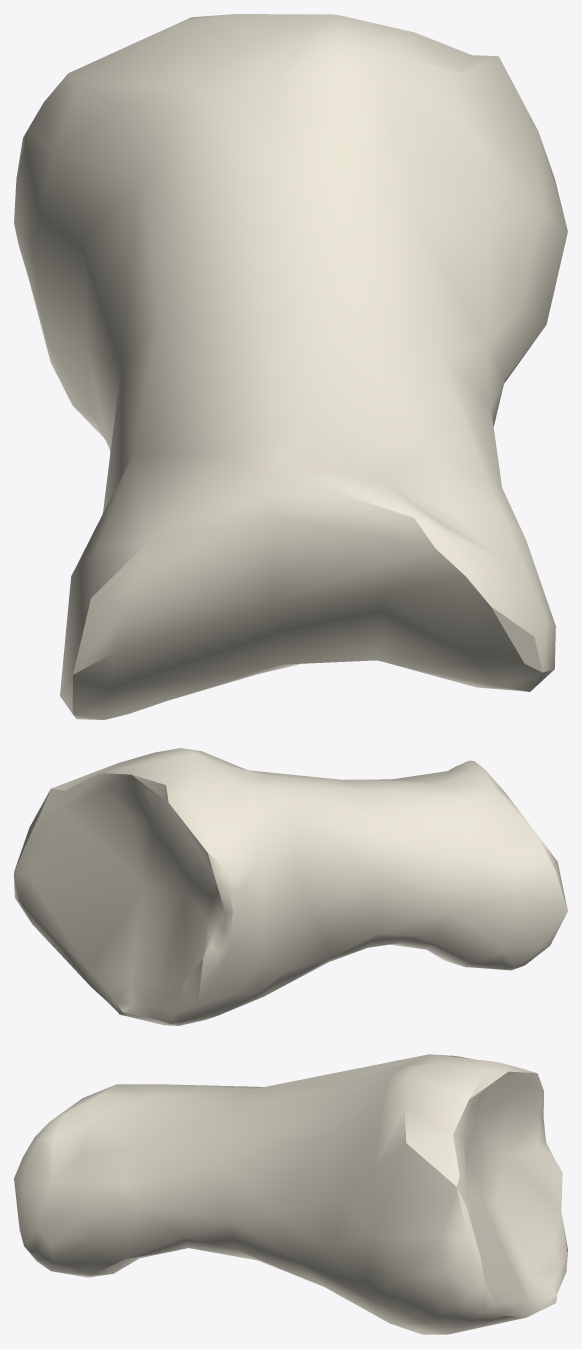
The model's file is fma43253_fj6413m.glb.
3 renders of one model, top to bottom at view 1: azimuth 30°, elevation 25°; view 2: azimuth 150°, elevation 25°; view 3: azimuth 270°, elevation 25°, orthographic. The views are drawn at different scales.
Parts seen in each view (by area): view 1: FMA43253_FJ6413M; view 2: FMA43253_FJ6413M; view 3: FMA43253_FJ6413M.
Boxes of the visible parts, bbox=[...] form: FMA43253_FJ6413M: bbox=[14, 14, 567, 719]; FMA43253_FJ6413M: bbox=[14, 748, 567, 1025]; FMA43253_FJ6413M: bbox=[14, 1054, 567, 1334].
Bounding box in the file's own units: 0.0302 × 0.0171 × 0.0334.
